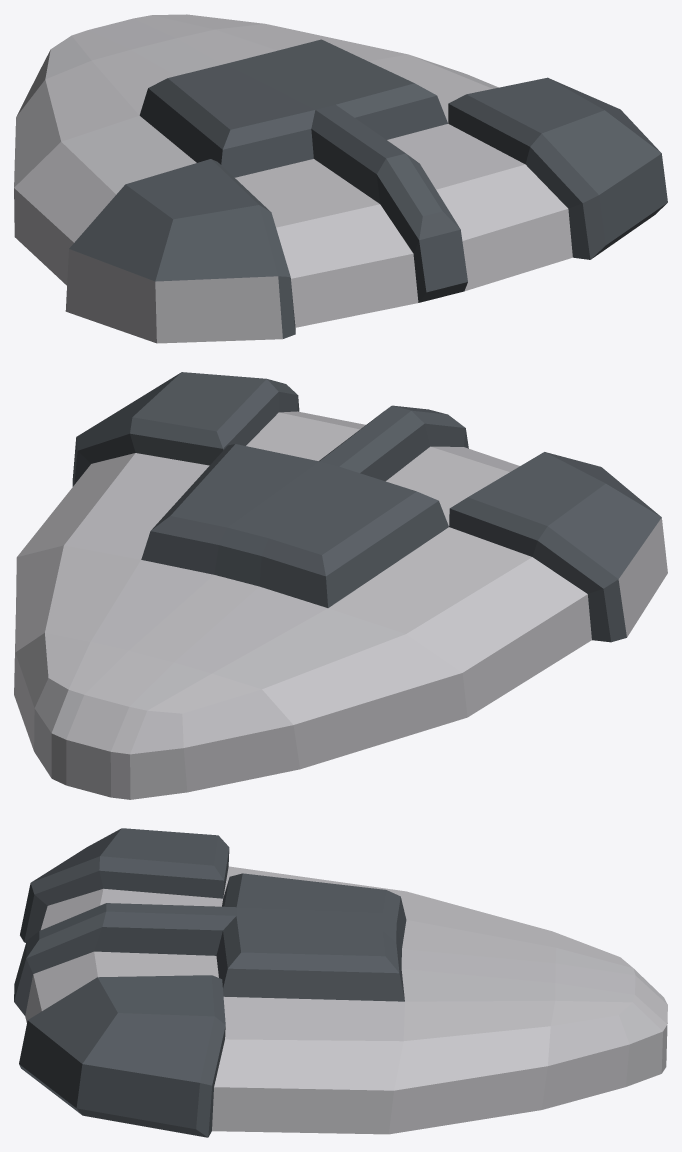
File: Fighter_02_Hatch.fbx
3 views of the same model, one above another, from view 1: azimuth 30°, elevation 25°; view 2: azimuth 150°, elevation 25°; view 3: azimuth 270°, elevation 25° (orthographic). The views are drawn at different scales.
Visible parts, largest first — view 1: Fighter_02_Hatch; view 2: Fighter_02_Hatch; view 3: Fighter_02_Hatch.
Part boxes in pixels (x1,y1,x2,y2): Fighter_02_Hatch: (14, 14, 667, 343); Fighter_02_Hatch: (14, 372, 667, 799); Fighter_02_Hatch: (14, 828, 667, 1137).
Bounding box in the file's own units: 50.09 × 13.88 × 55.73.
1 material, 1 textured.
